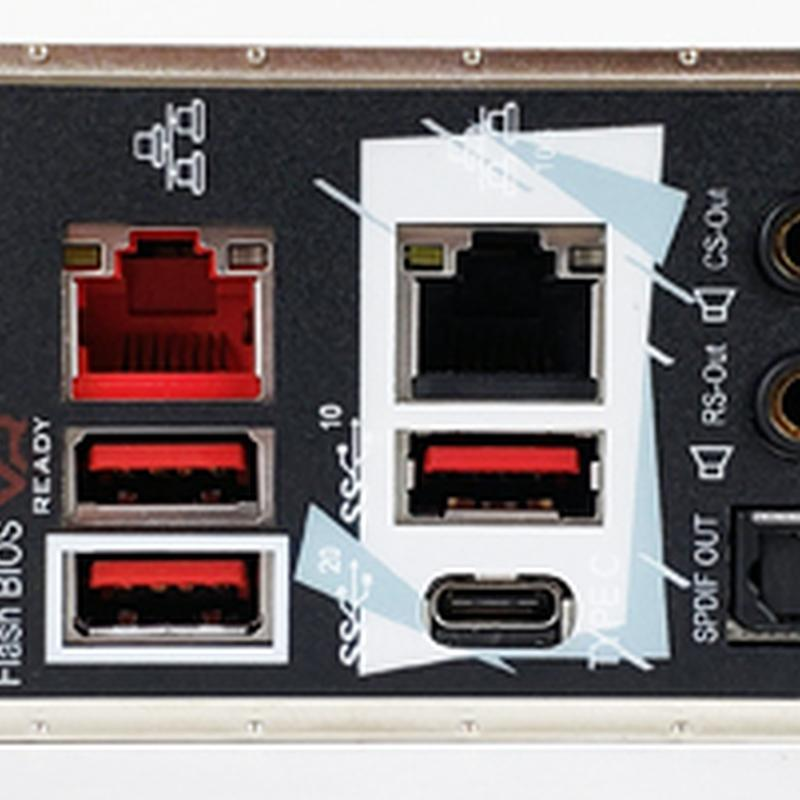ETHERNET: (40, 195, 286, 414), (384, 208, 623, 424)
USB: (380, 423, 629, 546), (50, 535, 280, 648), (53, 425, 277, 525)
USBC: (413, 554, 590, 661)
